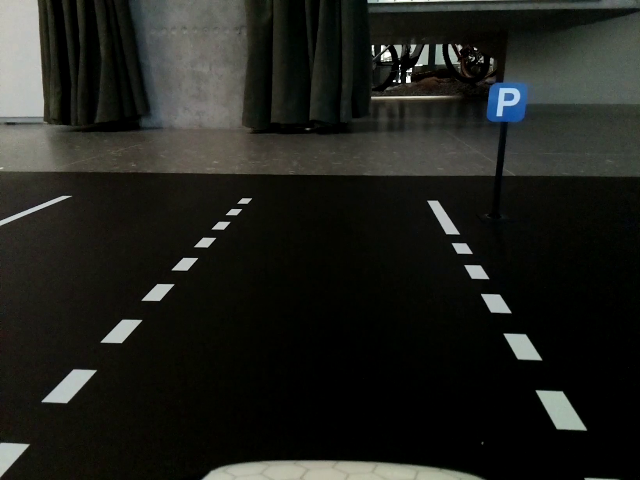park: (485, 83, 528, 127)
